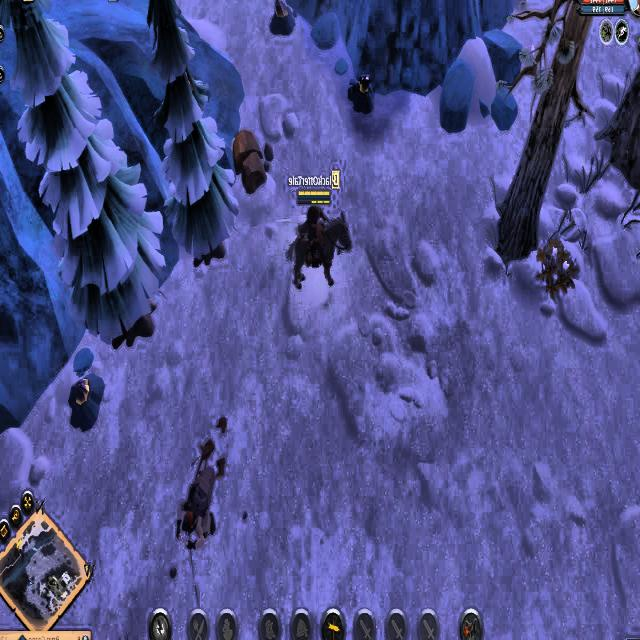copperore: (63, 372, 107, 432), (346, 71, 378, 112), (271, 0, 296, 32)
limestone: (231, 128, 274, 192)
